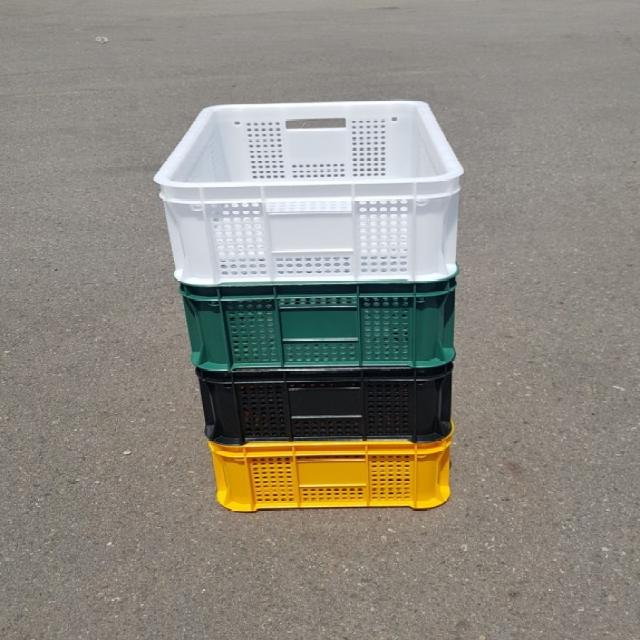basket: (153, 99, 464, 286), (182, 278, 457, 372), (197, 364, 454, 446)
